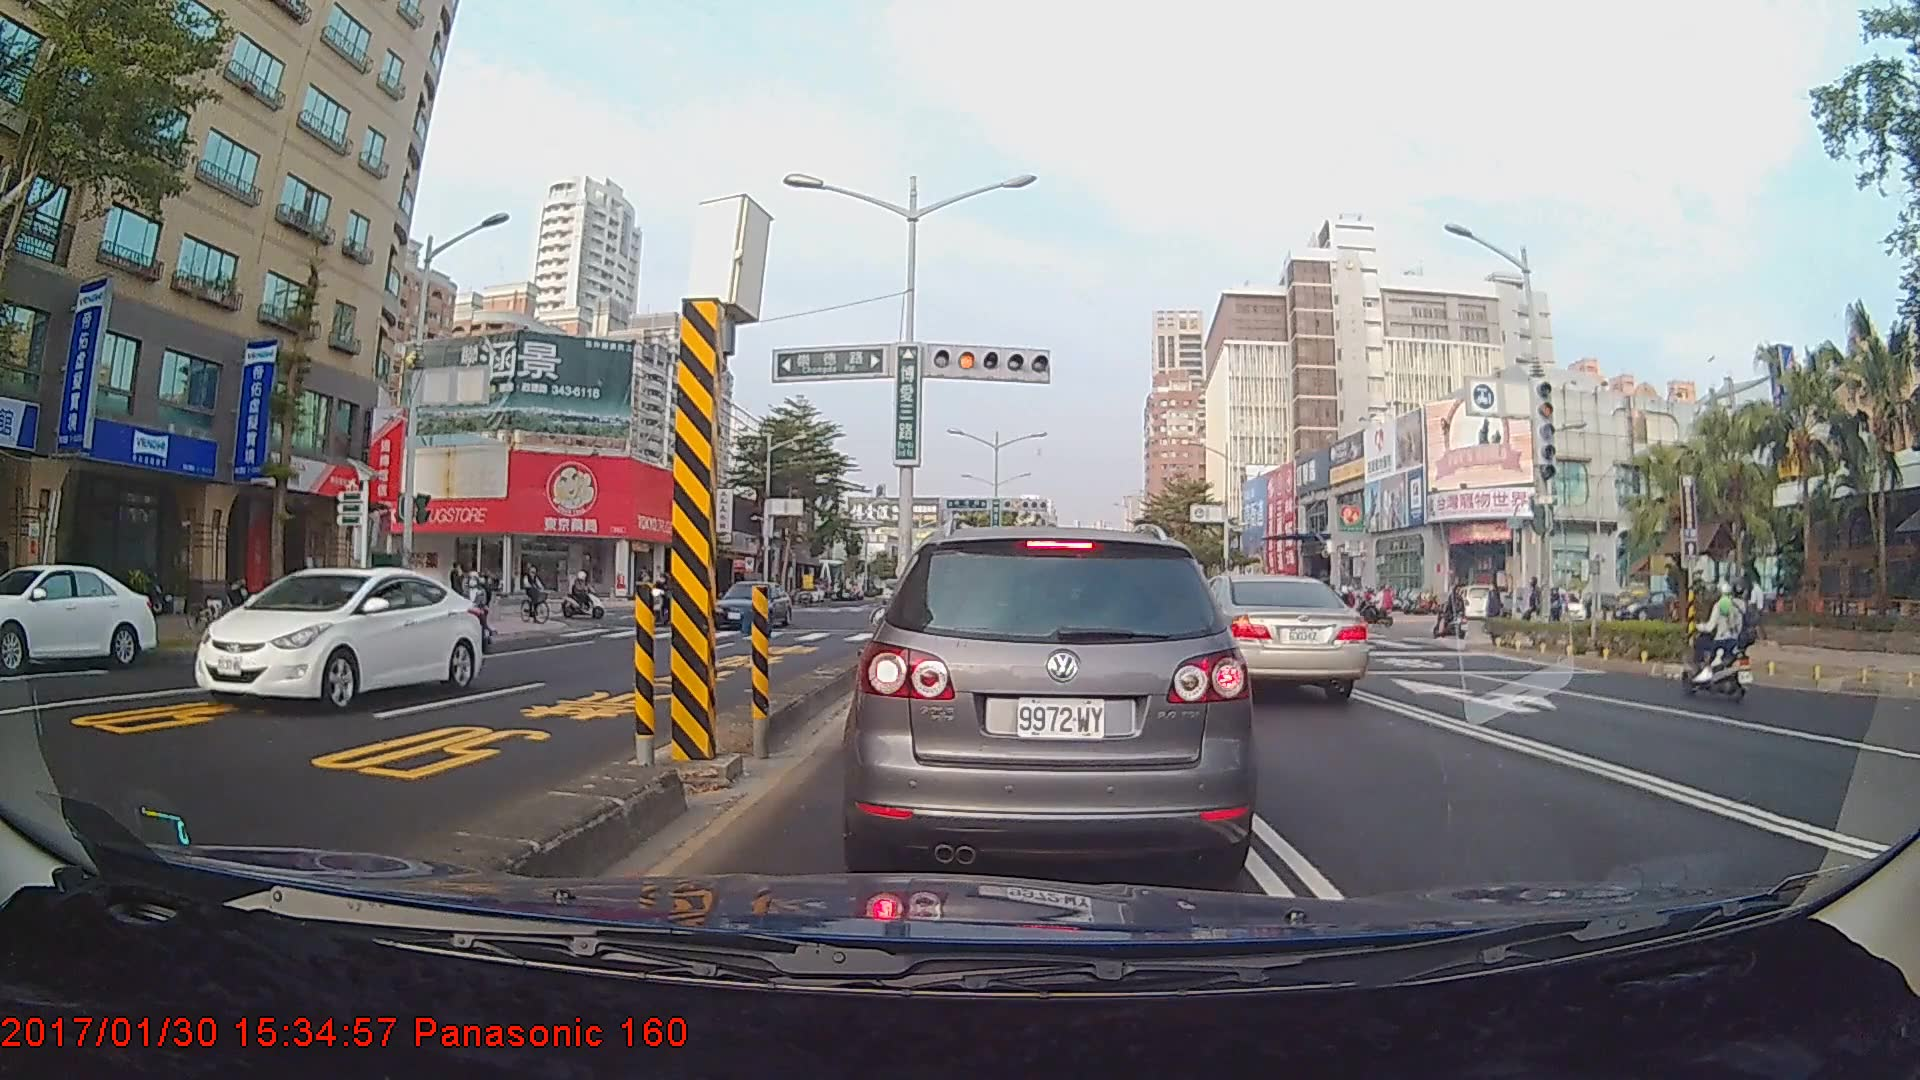pedestrian: (1744, 576, 1770, 644), (1484, 579, 1508, 637), (448, 558, 468, 621)
rider: (1674, 579, 1763, 703), (561, 568, 613, 625), (518, 559, 553, 629), (1436, 582, 1473, 646)
vehicle: (854, 520, 1249, 878), (192, 564, 483, 712), (1170, 571, 1368, 704), (0, 561, 162, 671), (708, 580, 791, 630)
